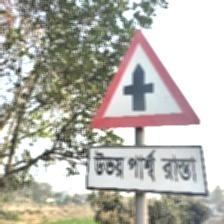Crossroad: (88, 29, 203, 224)
